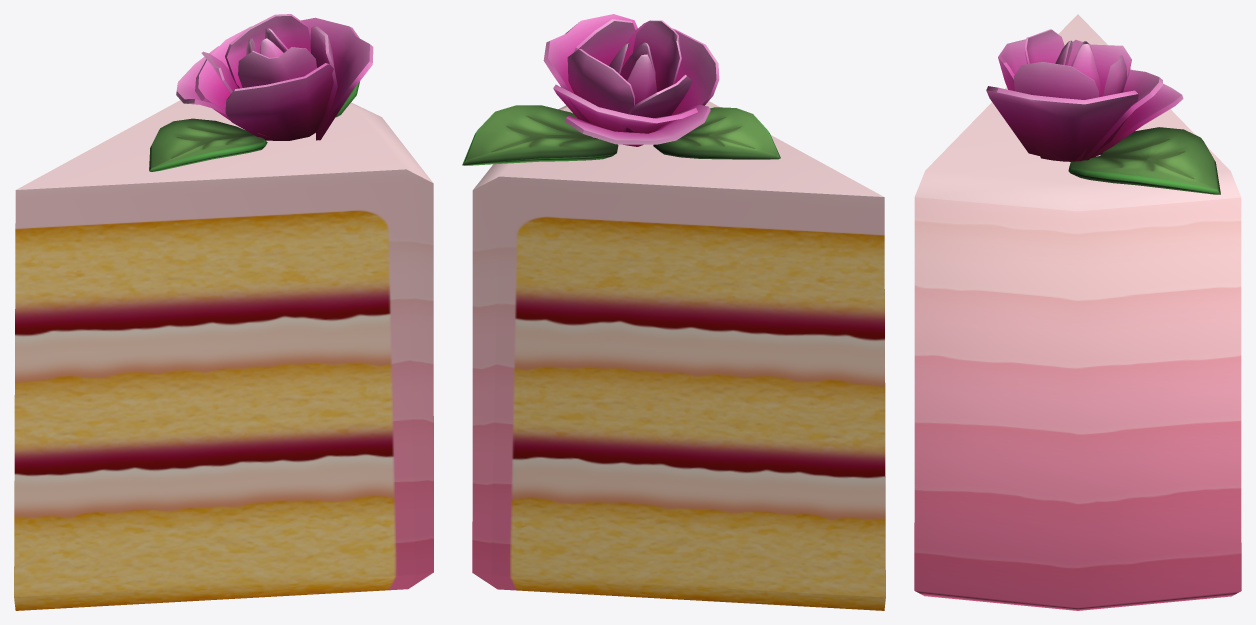
Rendered from Wedding_01_Slice.fbx.
3 views of the same model, side by side, from view 1: azimuth 30°, elevation 25°; view 2: azimuth 150°, elevation 25°; view 3: azimuth 270°, elevation 25° (orthographic). The views are drawn at different scales.
Parts seen in each view (by area): view 1: Wedding_01_Slice; view 2: Wedding_01_Slice; view 3: Wedding_01_Slice.
Boxes of the visible parts, <box> form: Wedding_01_Slice: <box>14,14,433,610</box>; Wedding_01_Slice: <box>462,14,885,610</box>; Wedding_01_Slice: <box>914,14,1241,610</box>.
Size of the model in its own units: 60.07 by 80.57 by 45.35.
